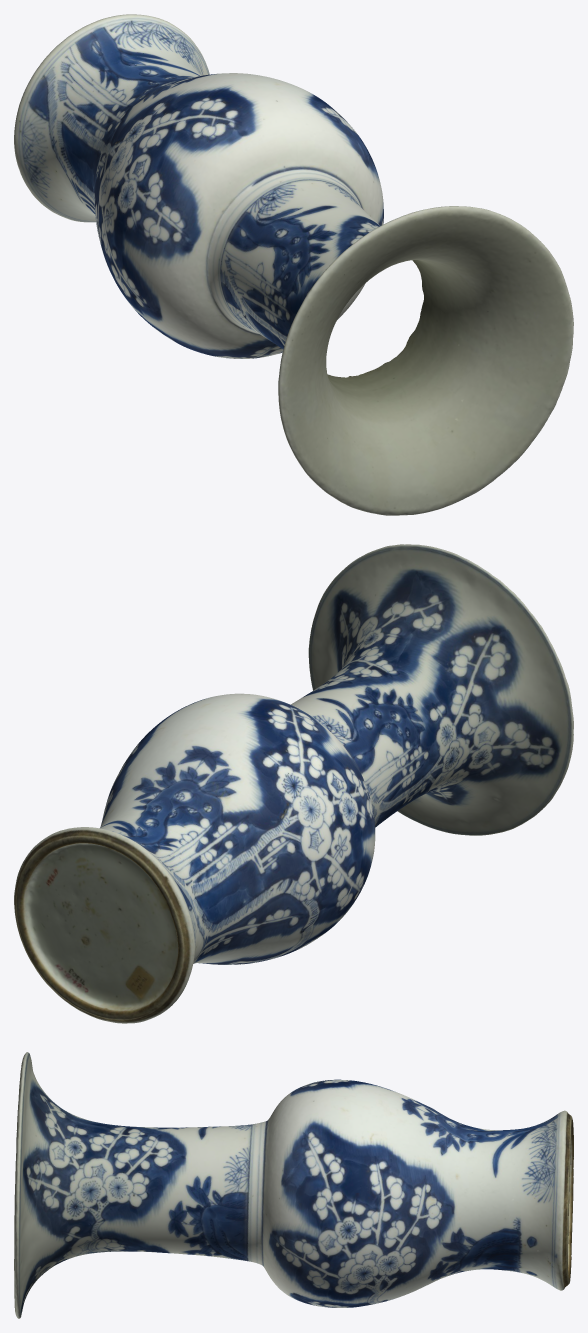
Rendered from vase-200k-2048-medium.glb.
3 views of the same model, one above another, from view 1: azimuth 30°, elevation 25°; view 2: azimuth 150°, elevation 25°; view 3: azimuth 270°, elevation 25° (orthographic). The views are drawn at different scales.
Size of the model in its own units: 0.2218 by 0.2215 by 0.4641.
1 material, 1 textured.
